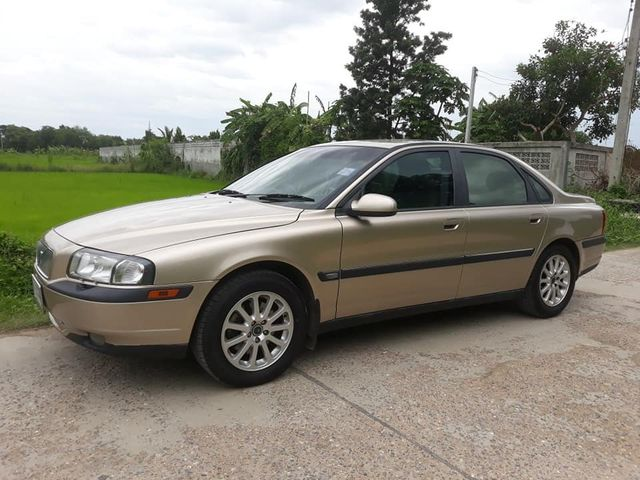sedan: (28, 140, 608, 389)
